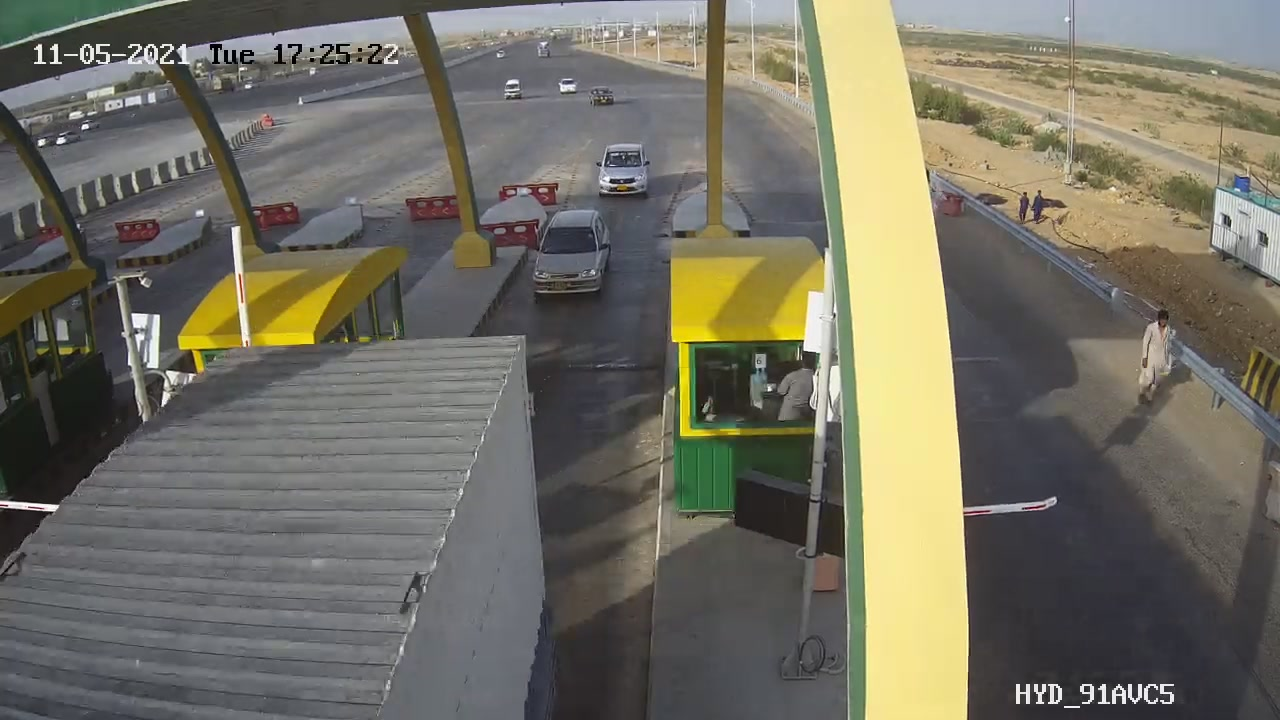F1: (514, 199, 627, 308)
